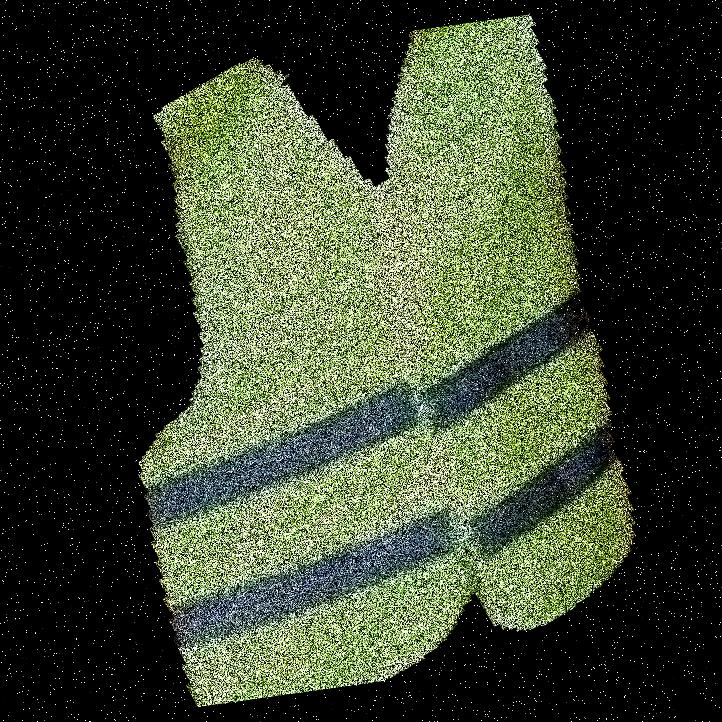Colete: (190, 0, 611, 721)
